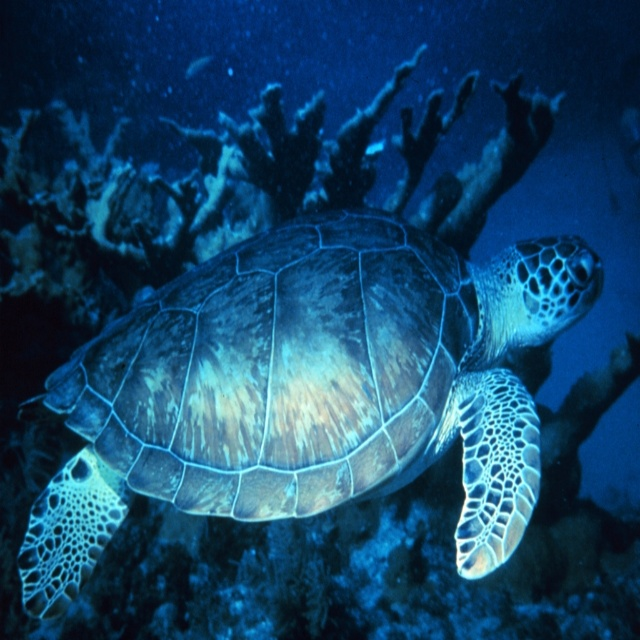Sea turtle: (19, 206, 602, 619)
